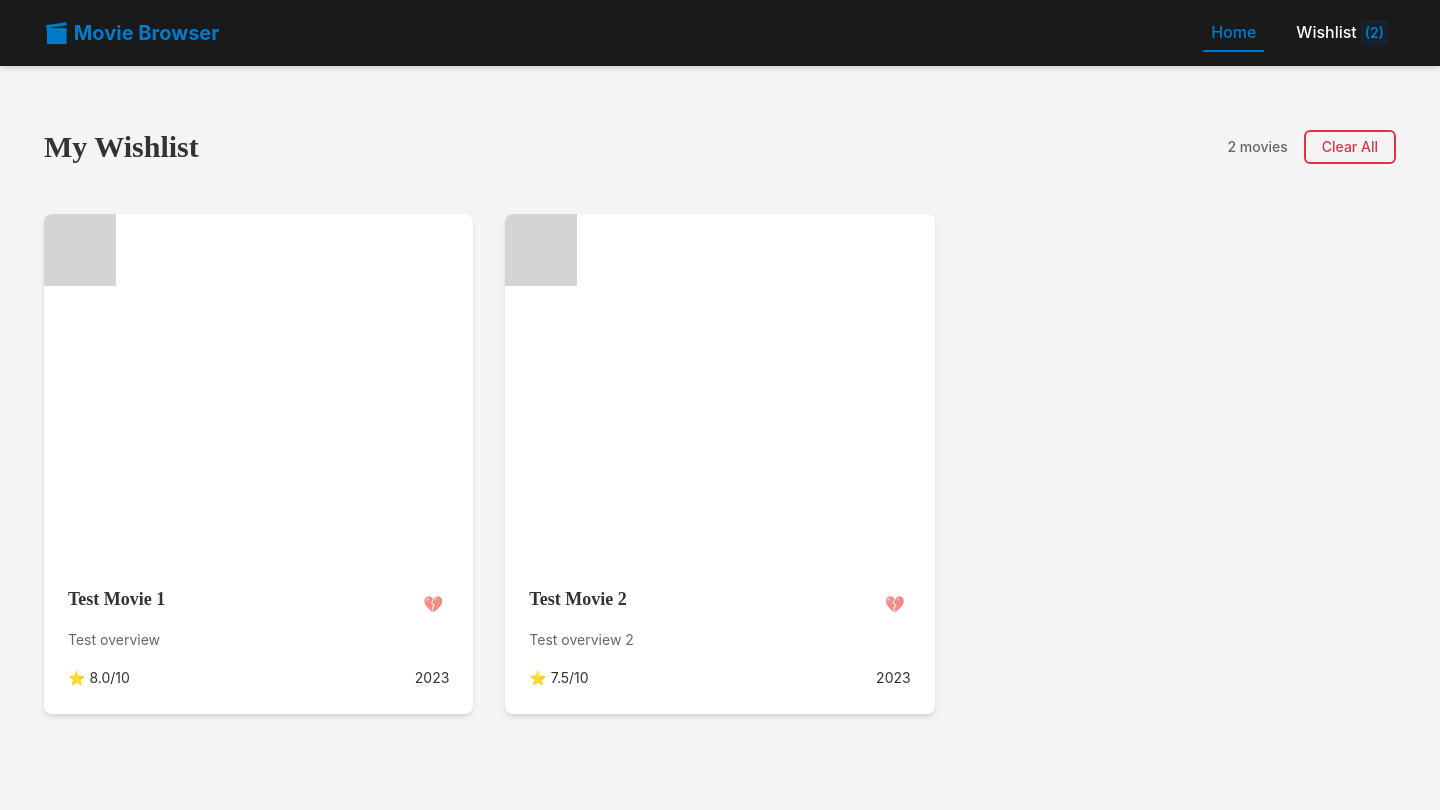
App Integration Tests › Full App Workflow › should handle clear all wishlist functionality
Check: the heading "My Wishlist" is shown, box [44,128,199,166]
Check: the text "2 movies" is shown, box [1227,136,1288,158]
Note: Click Clear All to open modal
What coordinates should you click on to do the following:
click the button "Clear All"
I would click on:
 (1350, 147)
Its box is [1304,130,1396,164].
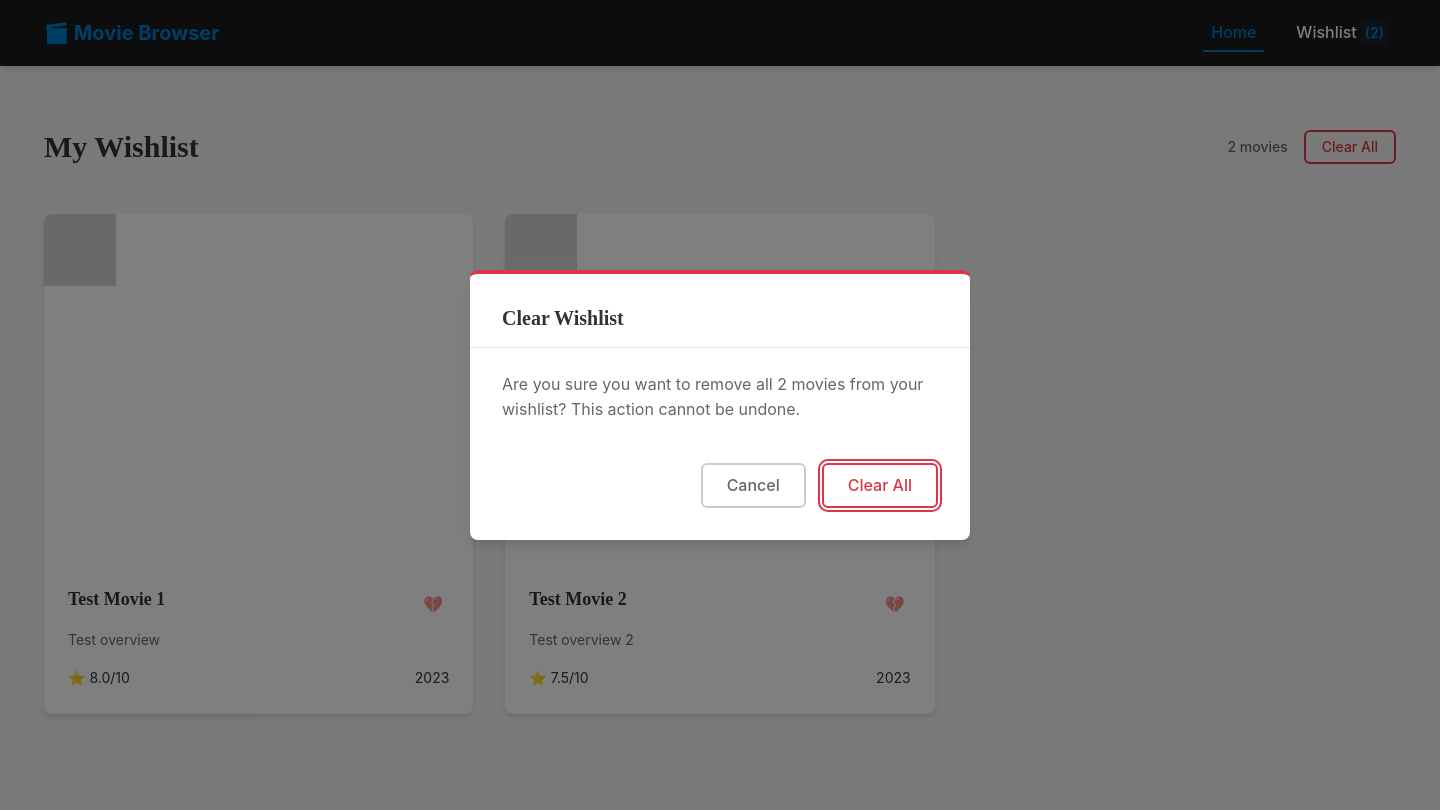
Check: the heading "Clear Wishlist" is shown, box [502,307,624,329]
Check: the text "Are you sure you want to remove all 2 movies" is shown, box [502,374,923,419]
Note: Click confirm button in modal
What coordinates should you click on to do the following:
click the button "Clear All"
I would click on:
 (880, 486)
Its box is [822,463,938,508].
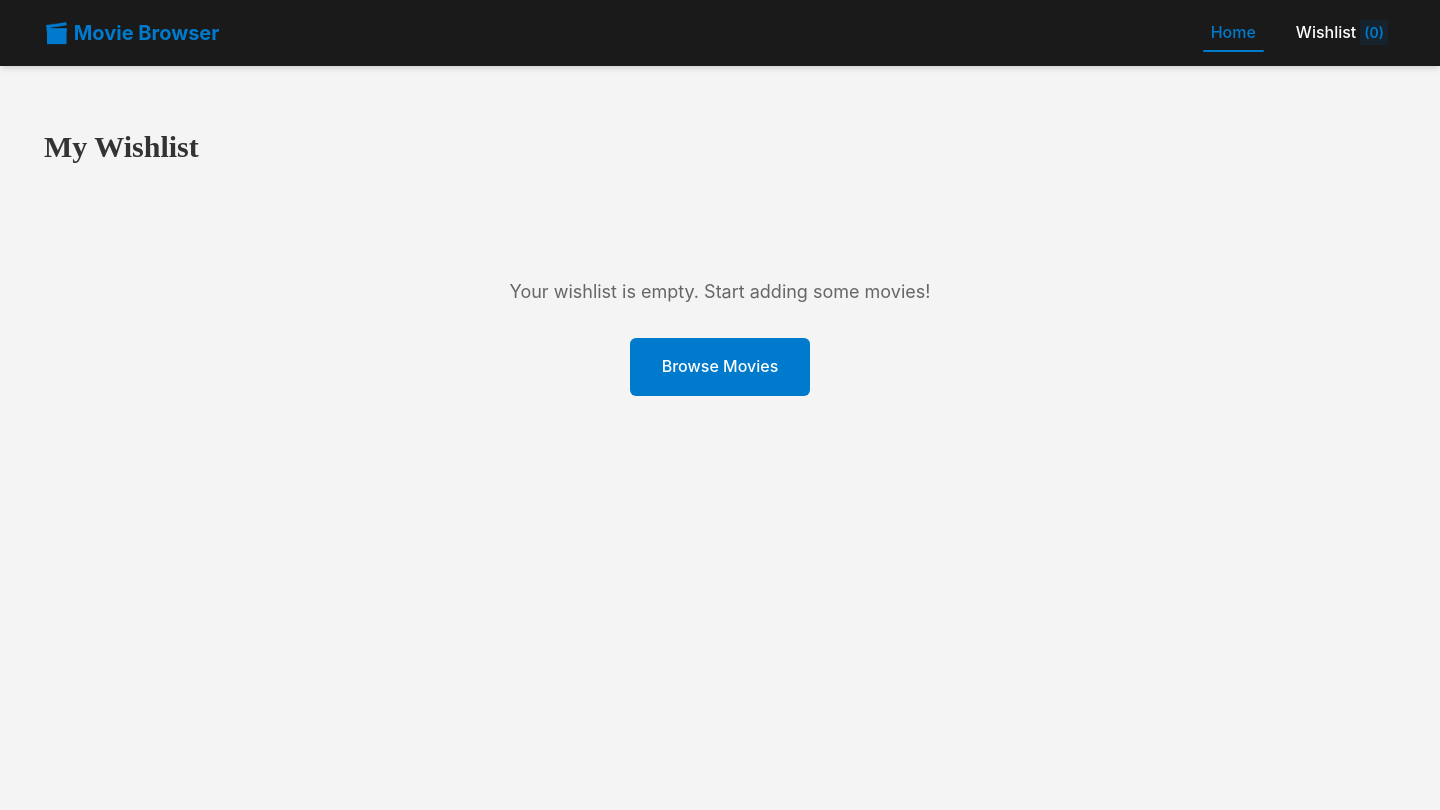
Check: the text "Your wishlist is empty. Start adding some movies!" is shown, box [510,280,930,302]
Check: the button "Clear All" is gone
